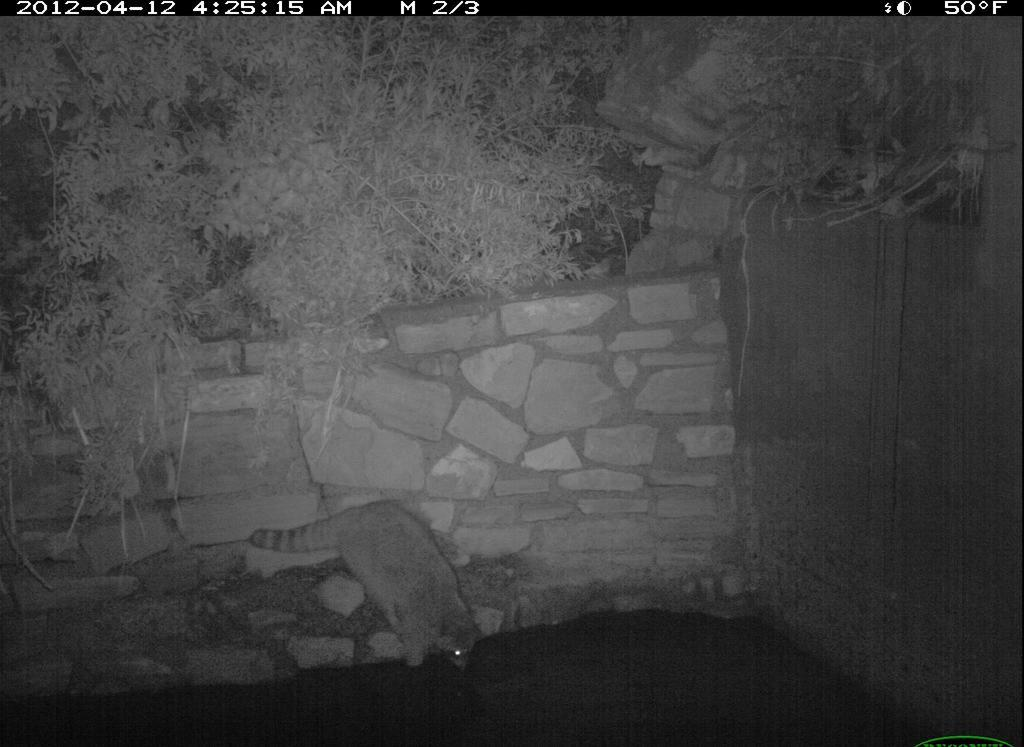raccoon: (255, 493, 538, 685)
